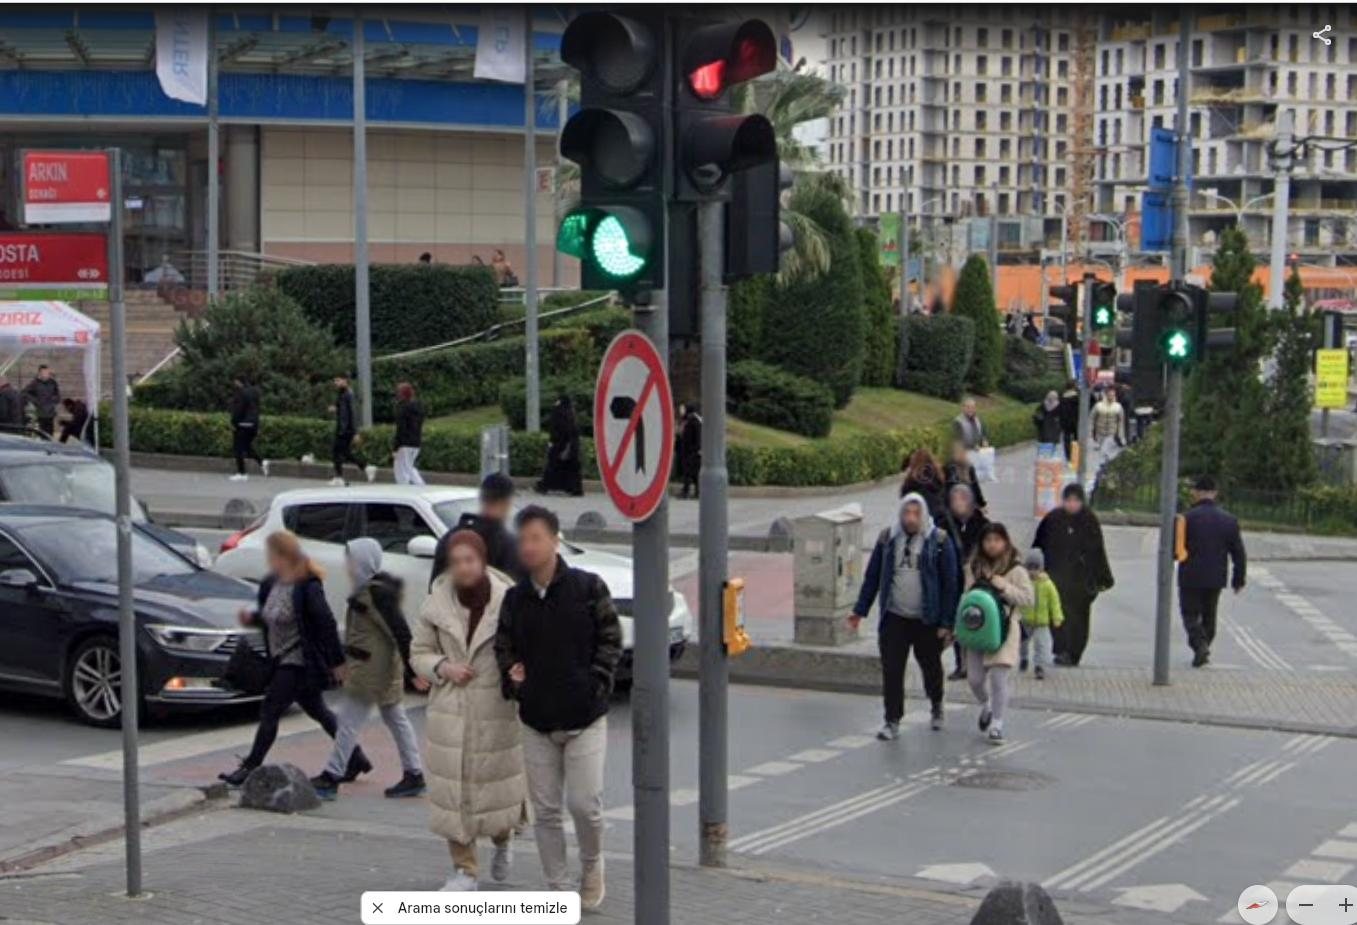greenlight: (564, 18, 673, 297)
leftturnsareforbidden: (590, 331, 678, 518)
redlight: (682, 25, 764, 211)
